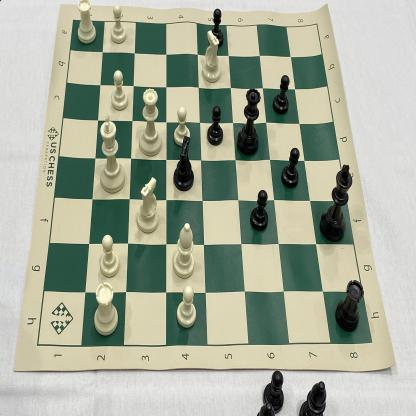black-king: (318, 160, 354, 246)
black-knight: (171, 135, 197, 192)
black-pawn: (248, 187, 271, 232), (280, 145, 302, 190), (272, 73, 292, 118), (205, 104, 225, 147), (210, 6, 225, 47)
black-queen: (236, 86, 262, 158)
black-rook: (333, 271, 365, 336)
white-bishop: (172, 219, 197, 279)
white-king: (96, 112, 127, 194)
white-knight: (135, 173, 161, 233), (201, 28, 223, 84)
white-pawn: (173, 283, 198, 329), (97, 233, 121, 278), (108, 68, 129, 112), (108, 2, 128, 44), (173, 104, 191, 145)
white-queen: (139, 84, 163, 159)
white-rook: (90, 280, 122, 338), (76, 0, 98, 45)
